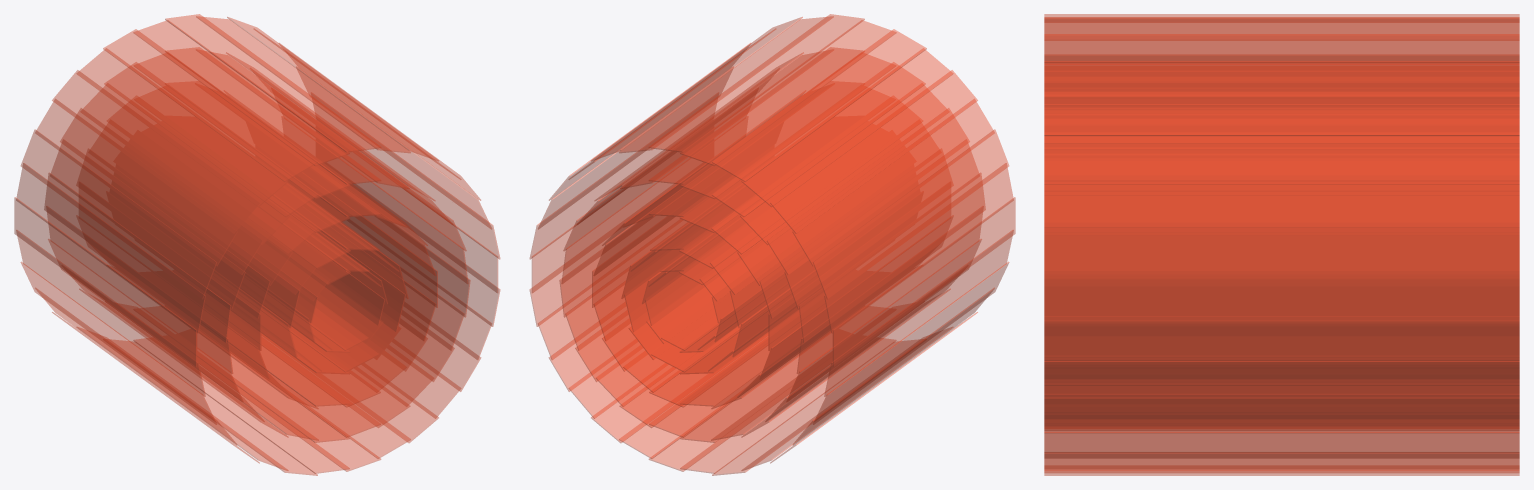
File: SiVertexBarrel.gltf
The picture shows the model from 3 angles, left to right: view 1: azimuth 30°, elevation 25°; view 2: azimuth 150°, elevation 25°; view 3: azimuth 270°, elevation 25°; orthographic projection. The views are drawn at different scales.
Visible parts, largest first — view 1: VtxBarrelModuleOuter_9 (×4), VtxBarrelModuleOuter_10 (×4), VtxBarrelModuleOuter_11 (×3), VtxBarrelModuleOuter_8 (×4), VtxBarrelModuleOuter_7 (×3), VtxBarrelModuleOuter_13 (×3), VtxBarrelModuleOuter_12 (×3), VtxBarrelModuleOuter_0 (×4), VtxBarrelModuleOuter_6 (×4), VtxBarrelModuleOuter_14 (×3), VtxBarrelModuleOuter_5 (×4), VtxBarrelModuleOuter_17 (×3) (+28 smaller); view 2: VtxBarrelModuleOuter_9 (×4), VtxBarrelModuleOuter_10 (×4), VtxBarrelModuleOuter_11 (×3), VtxBarrelModuleOuter_8 (×4), VtxBarrelModuleOuter_7 (×3), VtxBarrelModuleOuter_13 (×3), VtxBarrelModuleOuter_12 (×3), VtxBarrelModuleOuter_0 (×4), VtxBarrelModuleOuter_6 (×4), VtxBarrelModuleOuter_14 (×3), VtxBarrelModuleOuter_5 (×4), VtxBarrelModuleOuter_17 (×3) (+28 smaller); view 3: VtxBarrelModuleOuter_1 (×2), VtxBarrelModuleOuter_3 (×2), VtxBarrelModuleOuter_2 (×2), VtxBarrelModuleOuter_0 (×2), VtxBarrelModuleOuter_4 (×2), VtxBarrelModuleOuter_5 (×2), VtxBarrelModuleOuter_22 (×2), VtxBarrelModuleOuter_23 (×2), VtxBarrelModuleOuter_6 (×2), VtxBarrelModuleOuter_29, VtxBarrelModuleOuter_28, VtxBarrelModuleOuter_7 (×2) (+12 smaller).
Boxes of the visible parts, x1,y1,x2,y2 form: VtxBarrelModuleOuter_9 (×4): [60, 29, 378, 372]; VtxBarrelModuleOuter_10 (×4): [51, 48, 401, 379]; VtxBarrelModuleOuter_11 (×3): [44, 70, 405, 342]; VtxBarrelModuleOuter_8 (×4): [83, 20, 349, 374]; VtxBarrelModuleOuter_7 (×3): [104, 14, 380, 285]; VtxBarrelModuleOuter_13 (×3): [21, 129, 349, 406]; VtxBarrelModuleOuter_12 (×3): [35, 99, 318, 408]; VtxBarrelModuleOuter_0 (×4): [312, 158, 497, 307]; VtxBarrelModuleOuter_6 (×4): [139, 16, 410, 356]; VtxBarrelModuleOuter_14 (×3): [16, 163, 380, 421]; VtxBarrelModuleOuter_5 (×4): [166, 17, 438, 327]; VtxBarrelModuleOuter_17 (×3): [20, 250, 436, 442]; VtxBarrelModuleOuter_9 (×4): [651, 29, 969, 372]; VtxBarrelModuleOuter_10 (×4): [628, 48, 978, 379]; VtxBarrelModuleOuter_11 (×3): [624, 70, 985, 342]; VtxBarrelModuleOuter_8 (×4): [680, 20, 946, 374]; VtxBarrelModuleOuter_7 (×3): [649, 14, 925, 285]; VtxBarrelModuleOuter_13 (×3): [680, 129, 1008, 406]; VtxBarrelModuleOuter_12 (×3): [711, 99, 994, 408]; VtxBarrelModuleOuter_0 (×4): [532, 158, 717, 307]; VtxBarrelModuleOuter_6 (×4): [619, 16, 890, 356]; VtxBarrelModuleOuter_14 (×3): [649, 163, 1013, 421]; VtxBarrelModuleOuter_5 (×4): [591, 17, 863, 327]; VtxBarrelModuleOuter_17 (×3): [593, 250, 1009, 442]; VtxBarrelModuleOuter_1 (×2): [1044, 227, 1519, 321]; VtxBarrelModuleOuter_3 (×2): [1044, 137, 1519, 226]; VtxBarrelModuleOuter_2 (×2): [1044, 184, 1519, 274]; VtxBarrelModuleOuter_0 (×2): [1044, 279, 1519, 364]; VtxBarrelModuleOuter_4 (×2): [1044, 106, 1519, 180]; VtxBarrelModuleOuter_5 (×2): [1044, 77, 1519, 135]; VtxBarrelModuleOuter_22 (×2): [1044, 365, 1519, 452]; VtxBarrelModuleOuter_23 (×2): [1044, 322, 1519, 469]; VtxBarrelModuleOuter_6 (×2): [1044, 61, 1519, 97]; VtxBarrelModuleOuter_29: [1044, 361, 1519, 403]; VtxBarrelModuleOuter_28: [1044, 398, 1519, 432]; VtxBarrelModuleOuter_7 (×2): [1044, 35, 1519, 64].
Size of the model in its own units: 12.19 by 12.26 by 12.6.
